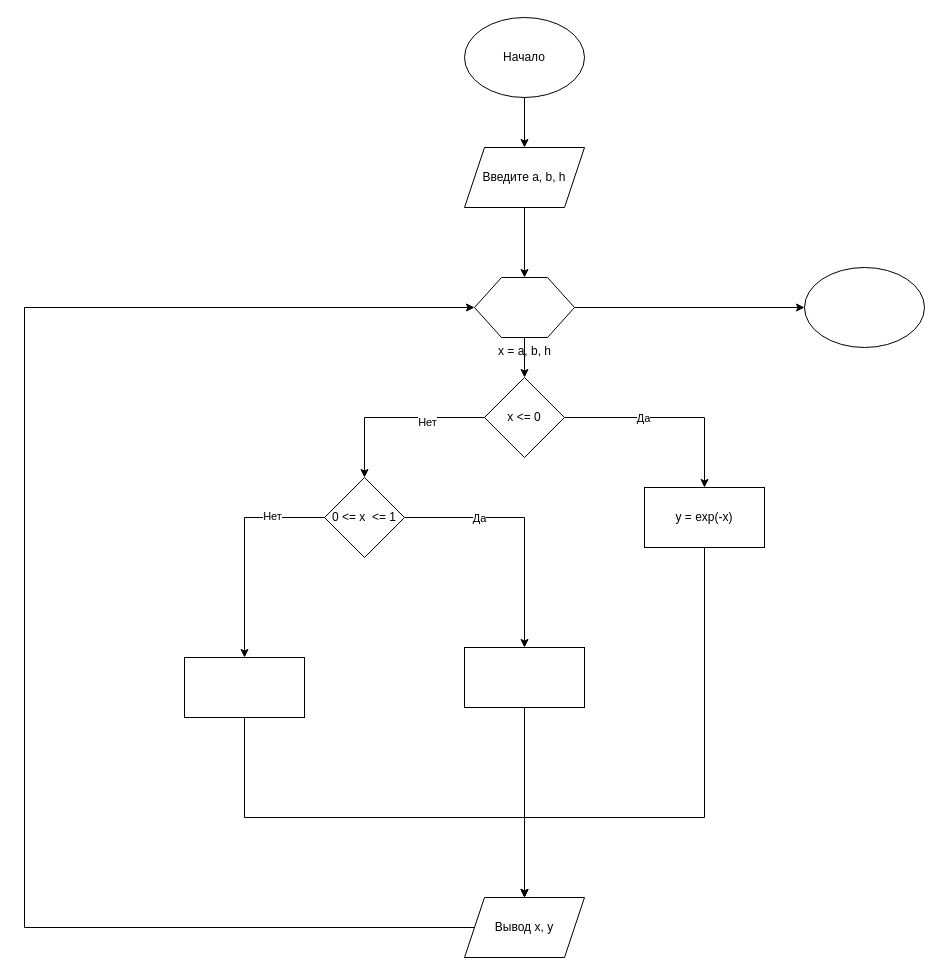
This 942x975 diagram has some shape labels left out. The centre of each missing label's shape, as x and y in pixels:
"y = 0" belongs at point (244, 687).
"y = cos(x * (PI/2))" belongs at point (524, 677).
"Конец" belongs at point (864, 307).
